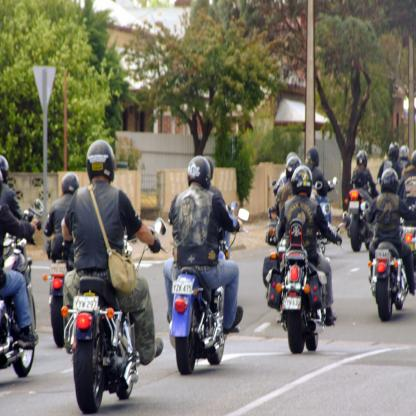Helmet: (82, 145, 112, 185), (187, 155, 212, 189), (293, 162, 313, 196), (380, 168, 401, 194), (60, 172, 79, 196), (285, 156, 301, 180), (305, 146, 319, 170), (355, 150, 369, 169), (0, 158, 9, 186), (386, 141, 399, 160), (399, 142, 410, 158)
